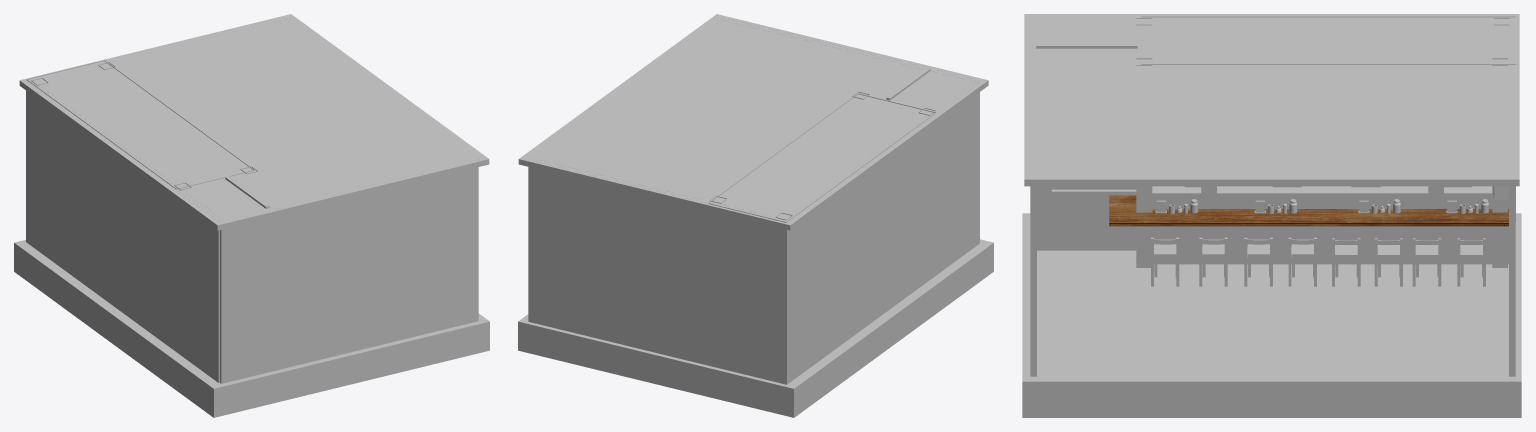
Rendered from Yakitori shop 02.fbx.
The picture shows the model from 3 angles, left to right: view 1: azimuth 30°, elevation 25°; view 2: azimuth 150°, elevation 25°; view 3: azimuth 270°, elevation 25°; orthographic projection. The views are drawn at different scales.
Parts seen in each view (by area): view 1: Cube.002, Cube.005, Cube.006, Cube.012, Cube.001; view 2: Cube.002, Cube.004, Cube.006, Cube.012, Cube.001; view 3: Cube.002, Cube.012, Cube.011, Cube.023, Cube.007, Cube.004, Cube.005, Cube.008, Cube.001, Cube.039, Cube.017, Cube.040 (+7 smaller).
Boxes of the visible parts, left/top/right/bottom form: Cube.002: left=19, top=14, right=489, bottom=230; Cube.005: left=220, top=167, right=478, bottom=383; Cube.006: left=26, top=90, right=219, bottom=382; Cube.012: left=14, top=239, right=489, bottom=417; Cube.001: left=26, top=60, right=254, bottom=189; Cube.002: left=518, top=14, right=988, bottom=230; Cube.004: left=528, top=167, right=782, bottom=383; Cube.006: left=782, top=92, right=979, bottom=384; Cube.012: left=518, top=239, right=993, bottom=417; Cube.001: left=708, top=93, right=935, bottom=252; Cube.002: left=1024, top=14, right=1519, bottom=186; Cube.012: left=1022, top=213, right=1521, bottom=417; Cube.011: left=1152, top=186, right=1508, bottom=264; Cube.023: left=1109, top=195, right=1508, bottom=226; Cube.007: left=1037, top=189, right=1136, bottom=250; Cube.004: left=1509, top=186, right=1515, bottom=376; Cube.005: left=1030, top=186, right=1036, bottom=376; Cube.008: left=1136, top=58, right=1152, bottom=267; Cube.001: left=1141, top=16, right=1515, bottom=64; Cube.039: left=1412, top=238, right=1441, bottom=286; Cube.017: left=1492, top=58, right=1507, bottom=267; Cube.040: left=1151, top=237, right=1179, bottom=286.
Bounding box in the file's own units: 268 × 179 × 336.
